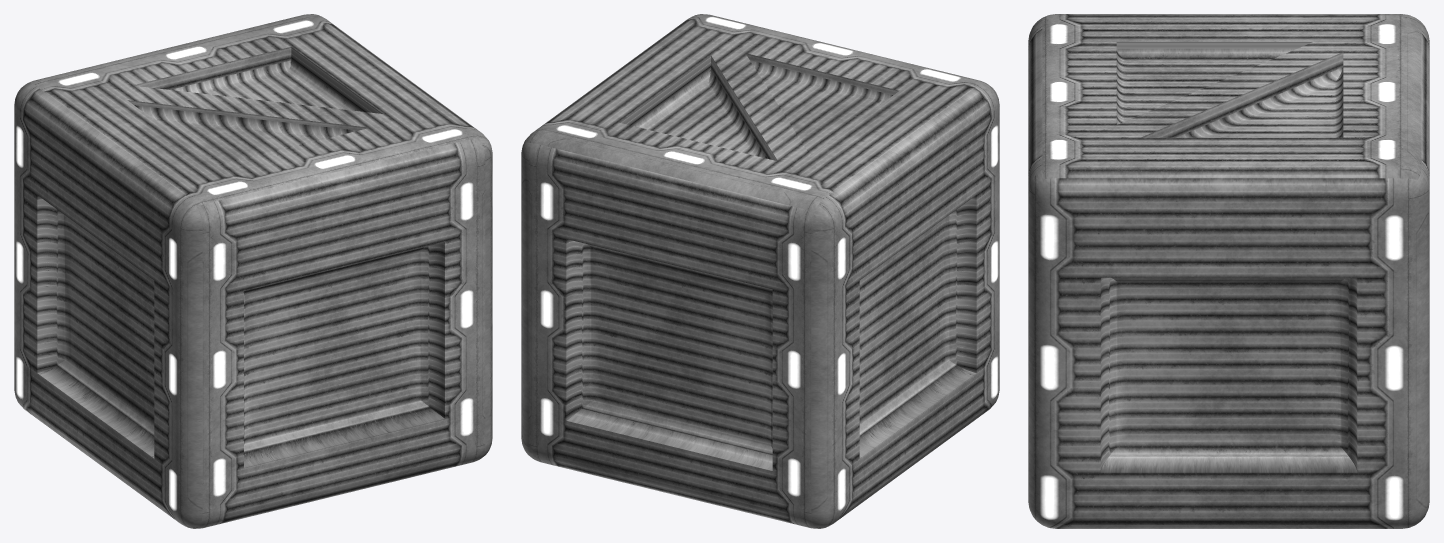
The model's file is Box_Fill.fbx.
3 views of the same model, side by side, from view 1: azimuth 30°, elevation 25°; view 2: azimuth 150°, elevation 25°; view 3: azimuth 270°, elevation 25° (orthographic). The views are drawn at different scales.
Visible parts, largest first — view 1: Box; view 2: Box; view 3: Box.
Boxes of the visible parts, <box> form: Box: <box>14,14,492,528</box>; Box: <box>521,14,999,528</box>; Box: <box>1028,14,1429,528</box>.
Bounding box in the file's own units: 200 × 200 × 200.
Materials: 1 (1 with a texture image).
